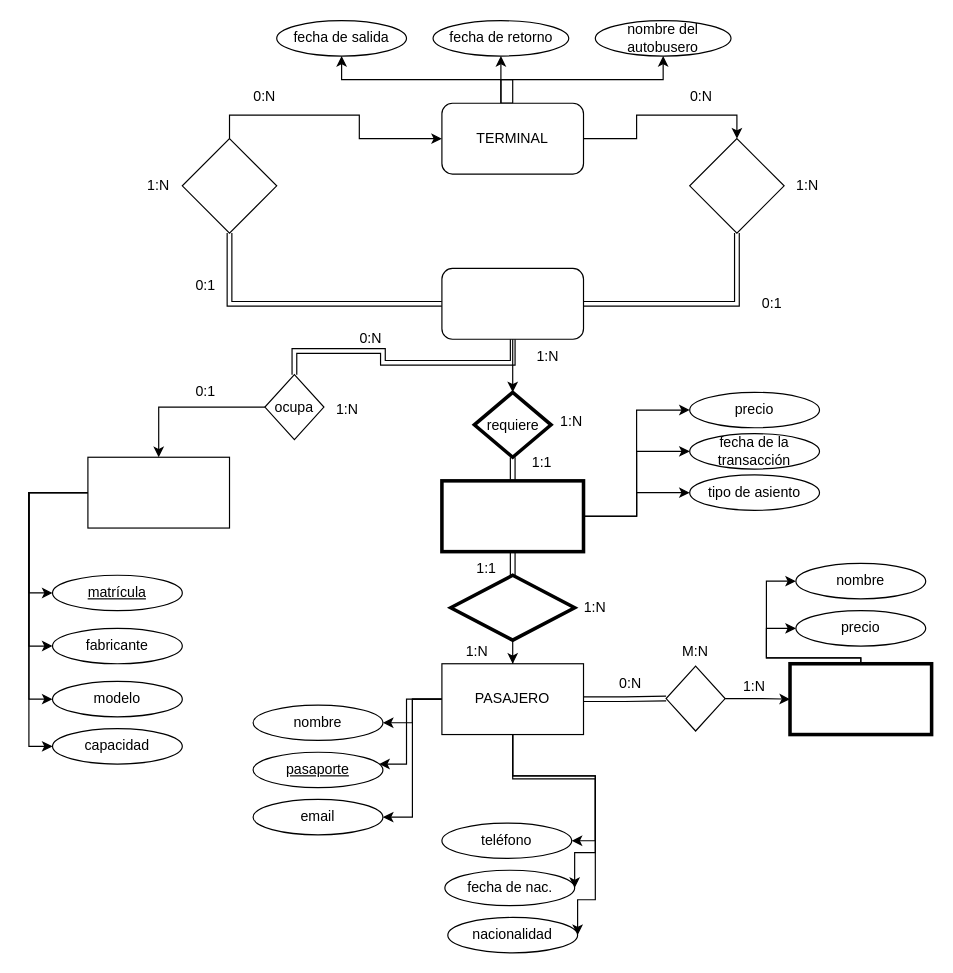
The diagram is 953 pixels wide and 973 high, and some of its shapes have lost their labels. The box of each missing label's shape, as (x1, y1, x2, y2) in pixels:
AUTOBUS: (87, 456, 230, 528)
EXCURSIÓN: (441, 267, 584, 339)
proviene de: (689, 137, 784, 233)
realiza: (665, 665, 725, 731)
realizada por: (448, 573, 576, 641)
RESERVA: (440, 478, 585, 553)
se dirige a: (181, 137, 277, 233)
SERVICIO EXTRA: (788, 661, 933, 736)
